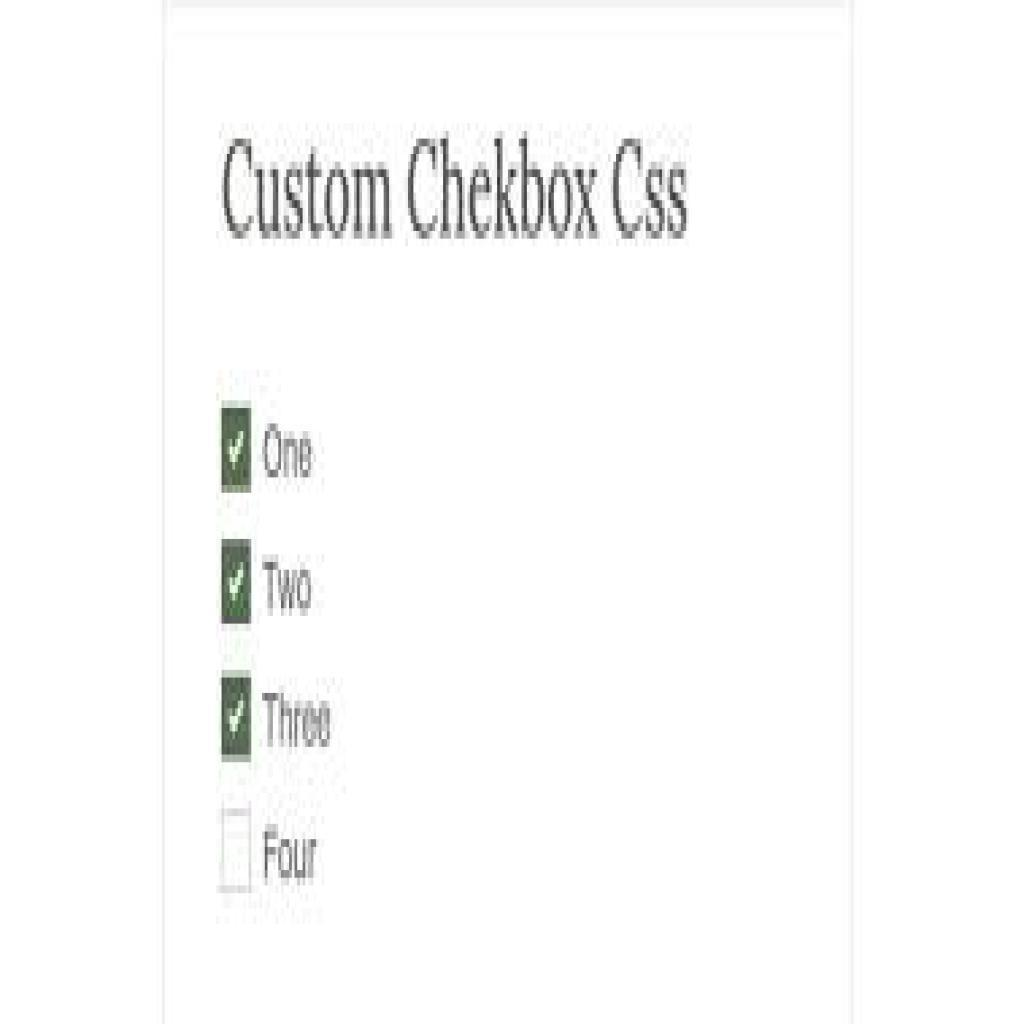checkbox: (219, 529, 256, 636), (219, 800, 257, 900), (219, 400, 256, 499), (220, 668, 255, 770)
